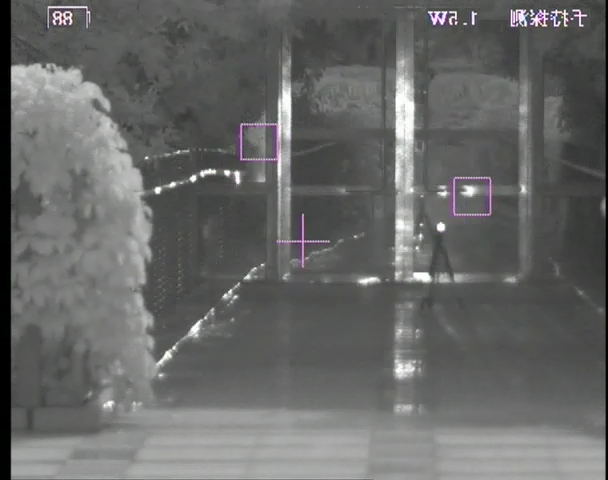my: (434, 221, 447, 234)
